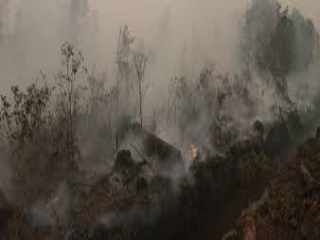fire: (189, 143, 204, 162)
smoke: (58, 102, 184, 217)
